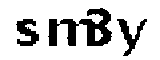3: (94, 5, 114, 51)
m: (45, 15, 94, 52)
s: (12, 17, 39, 51)
y: (115, 13, 149, 60)
